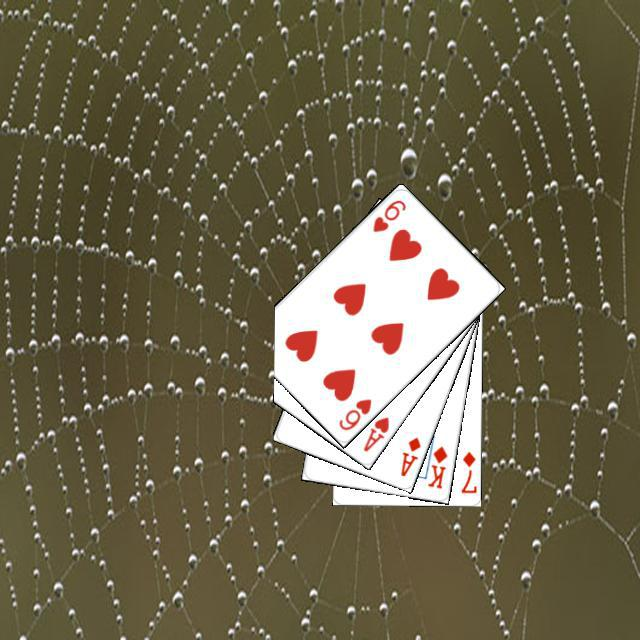6h: (368, 195, 408, 234), (334, 394, 373, 432)
7d: (456, 447, 477, 495)
Ad: (395, 432, 423, 478)
Ah: (358, 412, 391, 454)
Kd: (423, 441, 449, 490)
